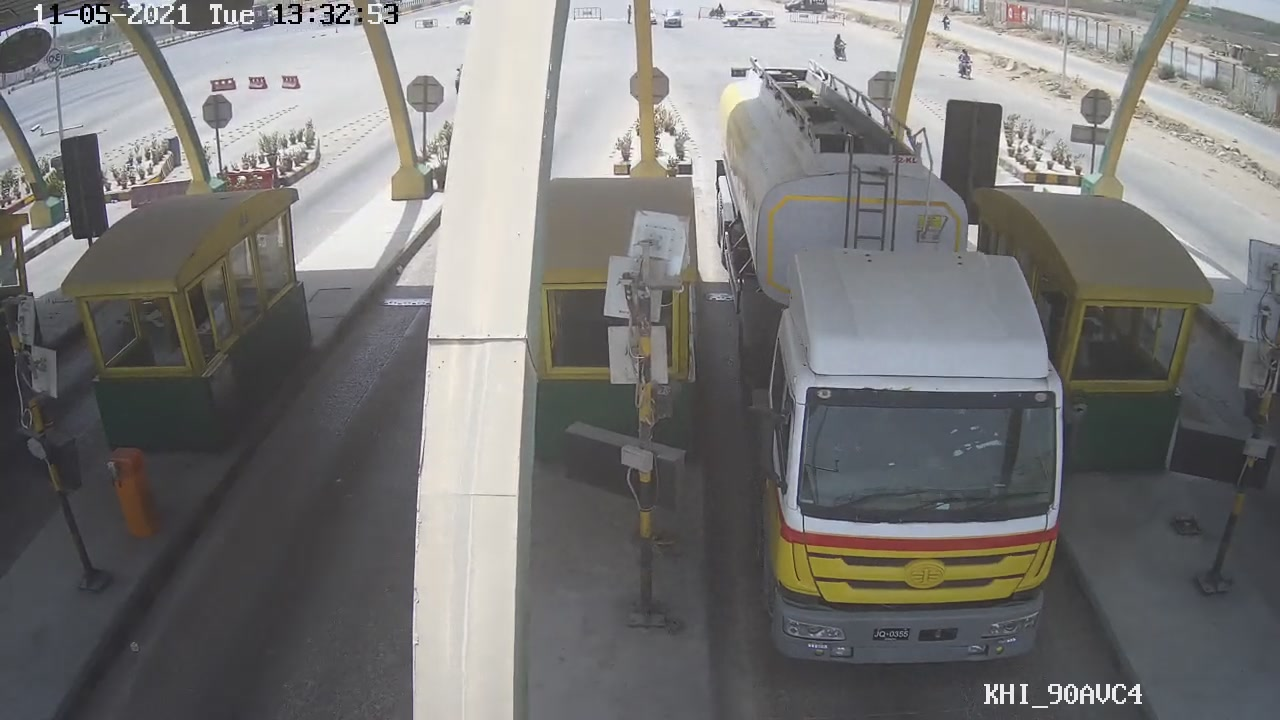F6: (702, 57, 1078, 671)
